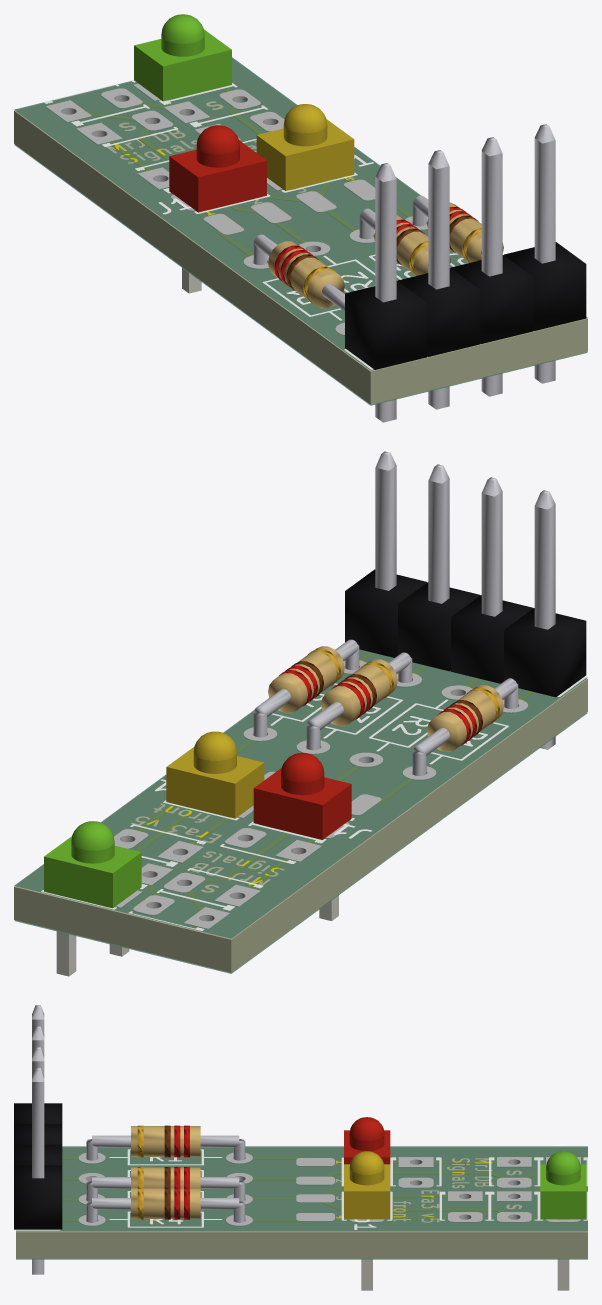
The model's file is MrJ-DB-Era3-breadboard-entry-off.glb.
3 renders of one model, top to bottom at view 1: azimuth 30°, elevation 25°; view 2: azimuth 150°, elevation 25°; view 3: azimuth 270°, elevation 25°, orthographic. The views are drawn at different scales.
Visible parts, largest first — view 1: =>[0:1:1:17], =>[0:1:1:3] (×4), =>[0:1:1:15], =>[0:1:1:5] (×3), =>[0:1:1:13], =>[0:1:1:9], =>[0:1:1:11], =>[0:1:1:7], =>[0:1:1:14], =>[0:1:1:12], =>[0:1:1:16]; view 2: =>[0:1:1:17], =>[0:1:1:15], =>[0:1:1:3] (×4), =>[0:1:1:5] (×3), =>[0:1:1:13], =>[0:1:1:11], =>[0:1:1:9], =>[0:1:1:7], =>[0:1:1:14], =>[0:1:1:12], =>[0:1:1:16]; view 3: =>[0:1:1:17], =>[0:1:1:15], =>[0:1:1:5] (×3), =>[0:1:1:3] (×4), =>[0:1:1:13], =>[0:1:1:11], =>[0:1:1:7], =>[0:1:1:14], =>[0:1:1:9], =>[0:1:1:12], =>[0:1:1:16].
Part boxes in pixels (x1=…): =>[0:1:1:17]: x1=14, y1=59, x2=587, y2=404; =>[0:1:1:3] (×4): x1=345, y1=124, x2=586, y2=422; =>[0:1:1:15]: x1=14, y1=57, x2=587, y2=370; =>[0:1:1:5] (×3): x1=253, y1=195, x2=503, y2=311; =>[0:1:1:13]: x1=46, y1=83, x2=427, y2=335; =>[0:1:1:9]: x1=169, y1=125, x2=266, y2=293; =>[0:1:1:11]: x1=134, y1=14, x2=231, y2=101; =>[0:1:1:7]: x1=256, y1=104, x2=354, y2=190; =>[0:1:1:14]: x1=44, y1=80, x2=586, y2=369; =>[0:1:1:12]: x1=87, y1=88, x2=412, y2=256; =>[0:1:1:16]: x1=14, y1=144, x2=587, y2=405; =>[0:1:1:17]: x1=14, y1=650, x2=587, y2=972; =>[0:1:1:15]: x1=14, y1=649, x2=587, y2=938; =>[0:1:1:3] (×4): x1=345, y1=451, x2=586, y2=749; =>[0:1:1:5] (×3): x1=253, y1=639, x2=518, y2=775; =>[0:1:1:13]: x1=114, y1=660, x2=527, y2=929; =>[0:1:1:11]: x1=44, y1=821, x2=141, y2=976; =>[0:1:1:9]: x1=253, y1=752, x2=351, y2=920; =>[0:1:1:7]: x1=166, y1=731, x2=264, y2=818; =>[0:1:1:14]: x1=41, y1=676, x2=586, y2=930; =>[0:1:1:12]: x1=136, y1=652, x2=532, y2=910; =>[0:1:1:16]: x1=14, y1=713, x2=587, y2=973; =>[0:1:1:17]: x1=16, y1=1148, x2=587, y2=1258; =>[0:1:1:15]: x1=16, y1=1146, x2=587, y2=1231; =>[0:1:1:5] (×3): x1=86, y1=1125, x2=245, y2=1222; =>[0:1:1:3] (×4): x1=14, y1=1005, x2=62, y2=1274; =>[0:1:1:13]: x1=78, y1=1153, x2=580, y2=1225; =>[0:1:1:11]: x1=540, y1=1151, x2=586, y2=1290; =>[0:1:1:7]: x1=344, y1=1151, x2=390, y2=1290; =>[0:1:1:14]: x1=16, y1=1149, x2=587, y2=1230; =>[0:1:1:9]: x1=344, y1=1117, x2=390, y2=1164; =>[0:1:1:12]: x1=63, y1=1157, x2=539, y2=1221; =>[0:1:1:16]: x1=16, y1=1258, x2=587, y2=1259.
Bounding box in the file's own units: 0.0104 × 0.0127 × 0.0297.
